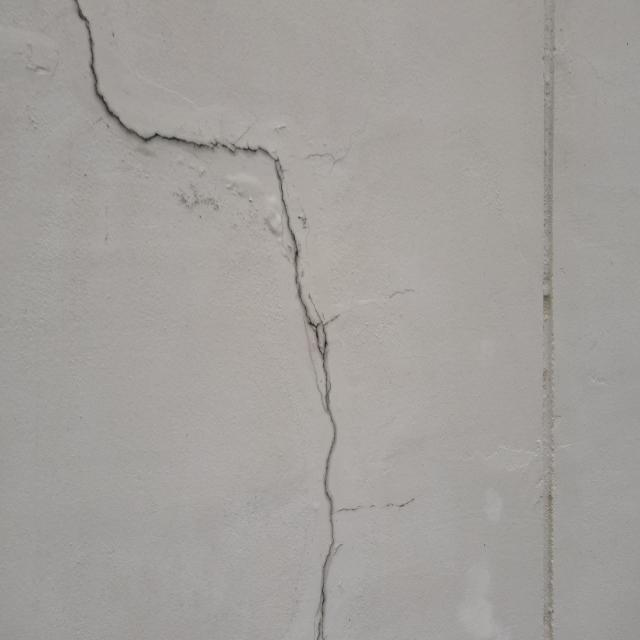SurfaceCrack: (11, 1, 393, 640)
